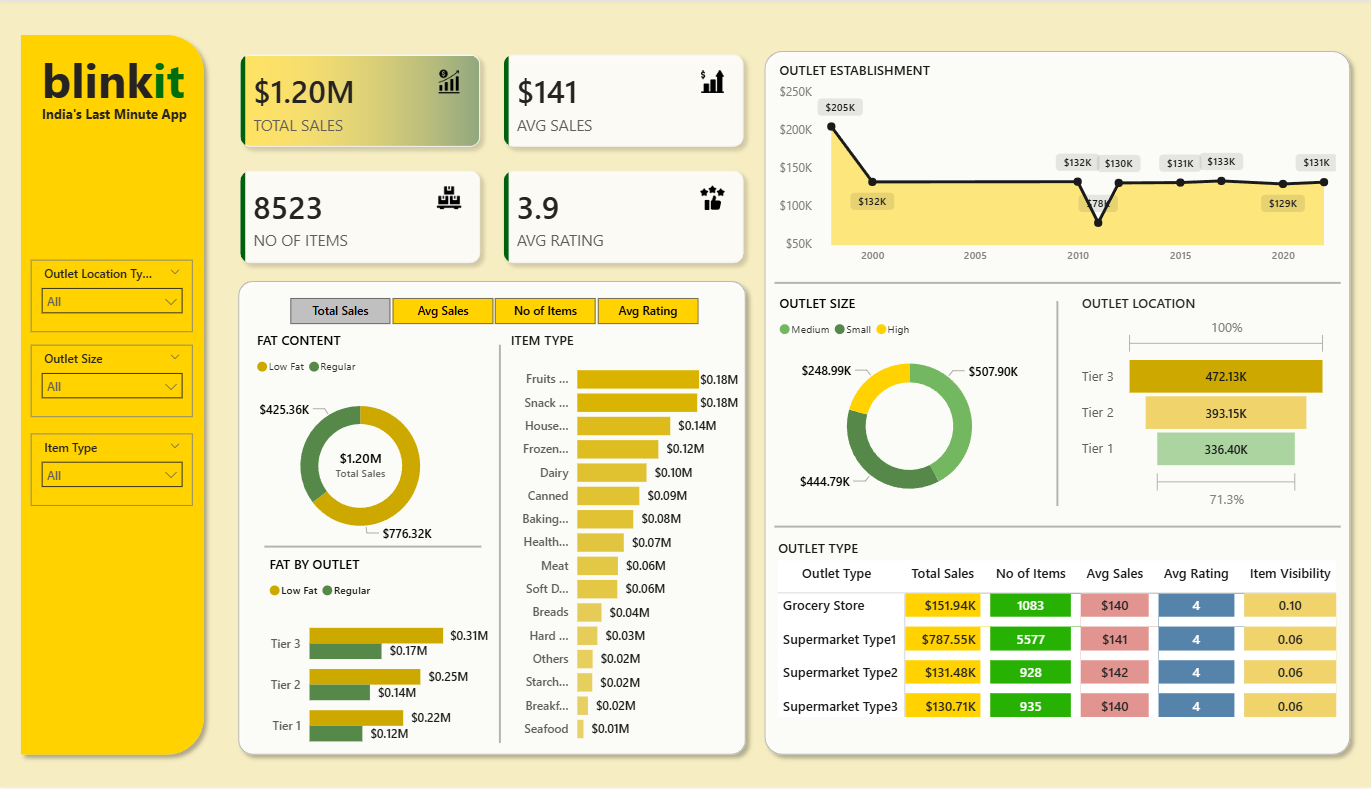

What the dashboard file says about the page in this screenshot:
{"tool":"powerbi","page":{"name":"Page 1","canvas":[1400,800],"ordinal":0},"visuals":[{"type":"shape","box":[15,25.5,204.1,750.4],"z":0},{"type":"textbox","box":[40.5,42,189.1,79.5],"z":1000},{"type":"textbox","box":[40.5,100.6,163.6,33],"z":2000},{"type":"cardVisual","fields":{"Data":["BlinkIT Grocery Data.Total Sales","BlinkIT Grocery Data.Avg Sales","BlinkIT Grocery Data.No of Items","BlinkIT Grocery Data.Avg Rating"]},"box":[219.1,25.5,570.3,270.2],"z":3000},{"type":"shape","box":[237.1,276.2,534.3,499.8],"z":4000},{"type":"donutChart","title":"FAT CONTENT","fields":{"Y":["BlinkIT Grocery Data.Total Sales"],"Category":["BlinkIT Grocery Data.Item Fat Content"]},"box":[259.6,336.2,220.6,229.6],"z":5000},{"type":"slicer","fields":{"Values":["Metrics.Metrics"]},"box":[271.7,295.7,465.3,40.5],"z":6000},{"type":"cardVisual","fields":{"Data":["BlinkIT Grocery Data.Total Sales"]},"box":[315.2,436.8,109.6,69],"z":7000},{"type":"clusteredBarChart","title":"FAT BY OUTLET","fields":{"Y":["BlinkIT Grocery Data.Total Sales"],"Category":["BlinkIT Grocery Data.Outlet Location Type"],"Series":["BlinkIT Grocery Data.Item Fat Content"]},"box":[271.7,562.8,232.6,213.1],"z":8000},{"type":"shape","box":[271.7,546.3,220.6,16.5],"z":9000},{"type":"shape","box":[504.3,349.7,13.5,405.2],"z":10000},{"type":"barChart","title":"ITEM TYPE","fields":{"Y":["BlinkIT Grocery Data.Total Sales"],"Category":["BlinkIT Grocery Data.Item Type"]},"box":[517.8,336.2,241.6,429.2],"z":11000},{"type":"shape","box":[771.4,42,613.9,733.9],"z":12000},{"type":"lineChart","title":"OUTLET ESTABLISHMENT","fields":{"Y":["BlinkIT Grocery Data.Total Sales"],"Category":["BlinkIT Grocery Data.Outlet Establishment Year"]},"box":[791,61.5,576.3,214.6],"z":13000},{"type":"shape","box":[791,279.2,576.3,16.5],"z":14000},{"type":"donutChart","title":"OUTLET SIZE","fields":{"Y":["BlinkIT Grocery Data.Total Sales"],"Category":["BlinkIT Grocery Data.Outlet Size"]},"box":[791,297.2,275,225],"z":15000},{"type":"shape","box":[1071.6,304.7,13.5,208.6],"z":16000},{"type":"funnel","title":"OUTLET LOCATION","fields":{"Y":["Sum(BlinkIT Grocery Data.Sales)"],"Category":["BlinkIT Grocery Data.Outlet Location Type"]},"box":[1098.6,297.2,260,225.1],"z":17000},{"type":"shape","box":[791,526.8,576.3,16.5],"z":18000},{"type":"pivotTable","title":"OUTLET TYPE","fields":{"Rows":["BlinkIT Grocery Data.Outlet Type"],"Values":["BlinkIT Grocery Data.Total Sales","BlinkIT Grocery Data.No of Items","BlinkIT Grocery Data.Avg Sales","BlinkIT Grocery Data.Avg Rating","Avg(BlinkIT Grocery Data.Item Visibility)"]},"box":[789.5,546.3,595.8,208.6],"z":19000},{"type":"slicer","fields":{"Values":["BlinkIT Grocery Data.Outlet Location Type"]},"box":[34.5,262.7,165.1,73.5],"z":20000},{"type":"slicer","fields":{"Values":["BlinkIT Grocery Data.Outlet Size"]},"box":[34.5,349.7,165.1,73.5],"z":21000},{"type":"slicer","fields":{"Values":["BlinkIT Grocery Data.Item Type"]},"box":[34.5,439.8,165.1,73.5],"z":22000}]}

Visuals, with their boxes in screenshot pixels (x1, y1, x2, y2), scaled from the page's 1400x800 canvas onto the 1371x789 screenshot:
shape: bbox=(15, 25, 215, 765)
textbox: bbox=(40, 41, 225, 120)
textbox: bbox=(40, 99, 200, 132)
cardVisual - BlinkIT Grocery Data.Total Sales x BlinkIT Grocery Data.Avg Sales: bbox=(215, 25, 773, 292)
shape: bbox=(232, 272, 755, 765)
"FAT CONTENT" donutChart: bbox=(254, 332, 470, 558)
slicer - Metrics.Metrics: bbox=(266, 292, 722, 332)
cardVisual - BlinkIT Grocery Data.Total Sales: bbox=(309, 431, 416, 499)
"FAT BY OUTLET" clusteredBarChart: bbox=(266, 555, 494, 765)
shape: bbox=(266, 539, 482, 555)
shape: bbox=(494, 345, 507, 745)
"ITEM TYPE" barChart: bbox=(507, 332, 744, 755)
shape: bbox=(755, 41, 1357, 765)
"OUTLET ESTABLISHMENT" lineChart: bbox=(775, 61, 1339, 272)
shape: bbox=(775, 275, 1339, 292)
"OUTLET SIZE" donutChart: bbox=(775, 293, 1044, 515)
shape: bbox=(1049, 301, 1063, 506)
"OUTLET LOCATION" funnel: bbox=(1076, 293, 1330, 515)
shape: bbox=(775, 520, 1339, 536)
"OUTLET TYPE" pivotTable: bbox=(773, 539, 1357, 745)
slicer - BlinkIT Grocery Data.Outlet Location Type: bbox=(34, 259, 195, 332)
slicer - BlinkIT Grocery Data.Outlet Size: bbox=(34, 345, 195, 417)
slicer - BlinkIT Grocery Data.Item Type: bbox=(34, 434, 195, 506)
